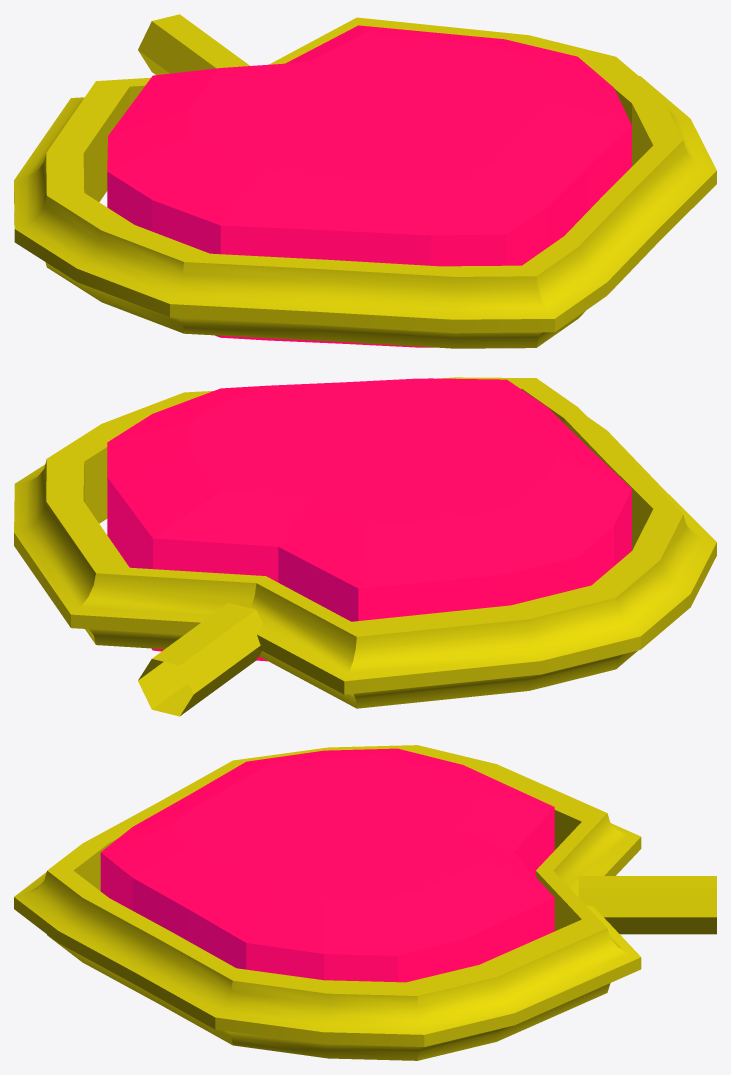
The model's file is pendant0102.fbx.
3 renders of one model, top to bottom at view 1: azimuth 30°, elevation 25°; view 2: azimuth 150°, elevation 25°; view 3: azimuth 270°, elevation 25°, orthographic. The views are drawn at different scales.
Visible parts, largest first — view 1: Pendant_0102; view 2: Pendant_0102; view 3: Pendant_0102.
Part boxes in pixels (left/top/right/bottom): Pendant_0102: left=14, top=14, right=716, bottom=348; Pendant_0102: left=14, top=377, right=716, bottom=716; Pendant_0102: left=14, top=745, right=716, bottom=1060.
Bounding box in the file's own units: 8.09 × 2.06 × 8.72.
